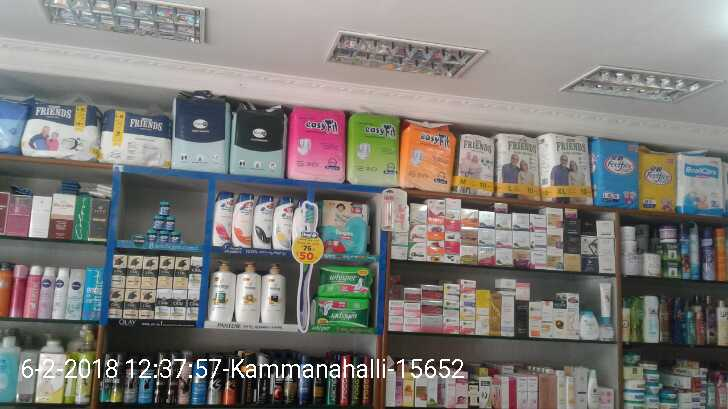beauty: (231, 191, 253, 248), (272, 195, 293, 252), (212, 191, 234, 245), (253, 193, 273, 251), (140, 256, 158, 291), (172, 255, 189, 290), (157, 255, 173, 289), (125, 254, 141, 288), (110, 254, 126, 288), (107, 286, 124, 317), (171, 288, 186, 322), (123, 288, 140, 318), (155, 288, 171, 318), (140, 290, 156, 319)
pharmacy: (319, 198, 371, 258), (316, 264, 373, 301), (314, 296, 372, 329), (159, 200, 171, 218), (163, 215, 176, 231), (153, 214, 164, 231)
